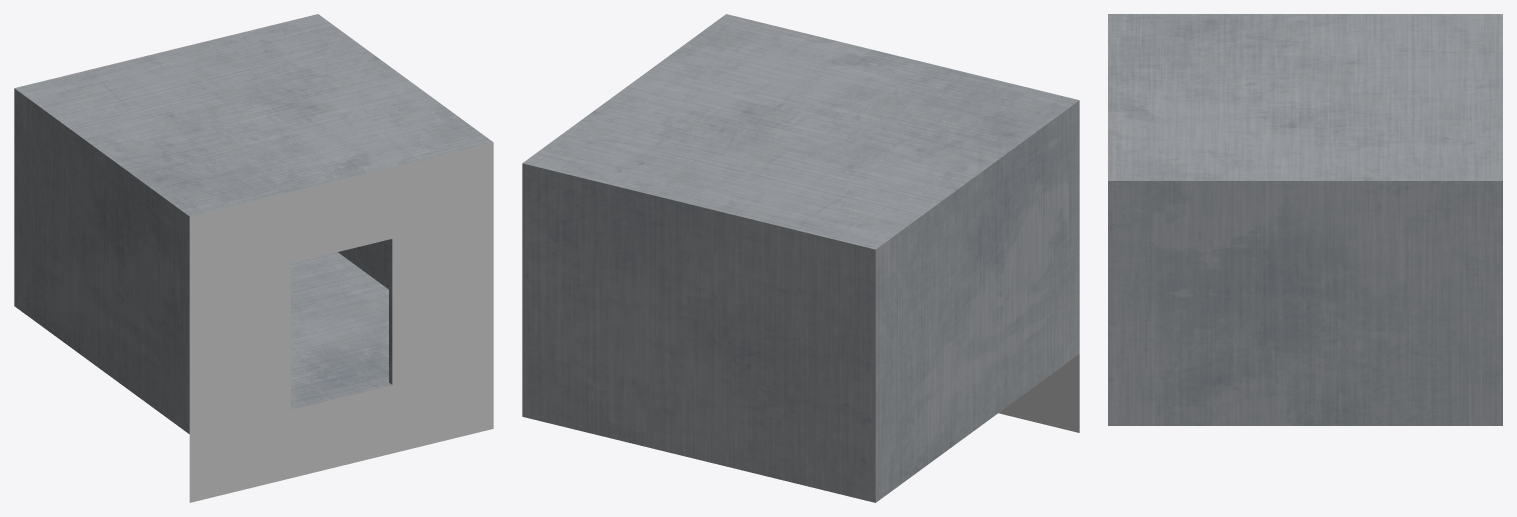
File: ElevatorNew.fbx
3 views of the same model, side by side, from view 1: azimuth 30°, elevation 25°; view 2: azimuth 150°, elevation 25°; view 3: azimuth 270°, elevation 25° (orthographic). The views are drawn at different scales.
Visible parts, largest first — view 1: Elevator, Doorway.005; view 2: Elevator, Doorway.005; view 3: Elevator.
Part boxes in pixels (bbox=[...]): Elevator: bbox=[14, 14, 493, 433]; Doorway.005: bbox=[189, 142, 493, 502]; Elevator: bbox=[522, 14, 1079, 502]; Doorway.005: bbox=[998, 354, 1079, 432]; Elevator: bbox=[1108, 14, 1502, 425].
Bounding box in the file's own units: 500 × 450 × 500.
